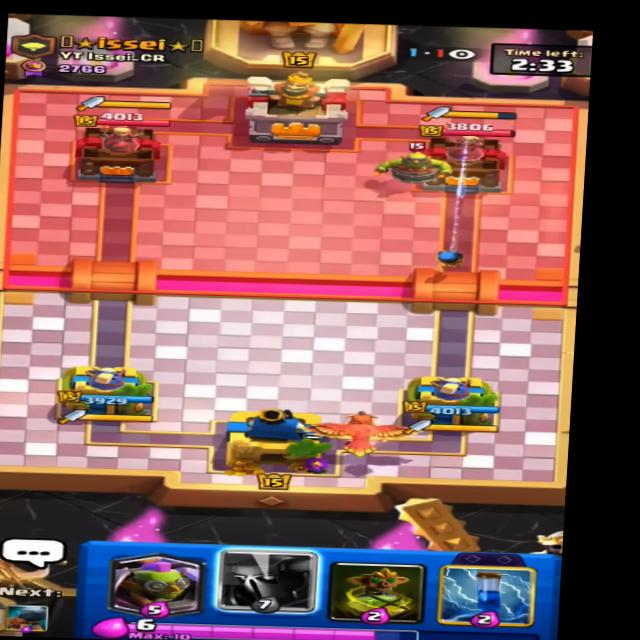goblin-demolisher: (378, 139, 454, 186)
